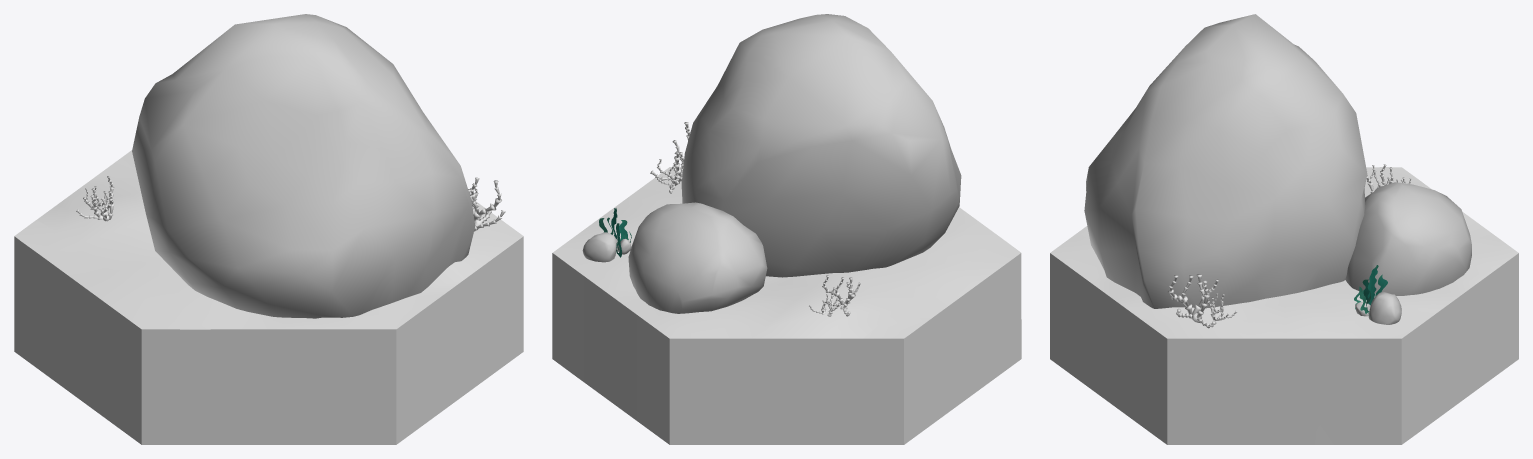
Rendered from RockTile.fbx.
3 renders of one model, left to right at view 1: azimuth 30°, elevation 25°; view 2: azimuth 150°, elevation 25°; view 3: azimuth 270°, elevation 25°, orthographic. The views are drawn at different scales.
Parts seen in each view (by area): view 1: Ground, RockTextured, Coral, Coral.001; view 2: Ground, RockTextured, RockTextured.001, RockTextured.002, Coral.001; view 3: Ground, RockTextured, RockTextured.001, Coral, RockTextured.002, Plane.
Part boxes in pixels (x1,y1,x2,y2): Ground: (14,150,523,444); RockTextured: (132,14,475,318); Coral: (468,177,505,231); Coral.001: (76,176,114,221); Ground: (552,167,1021,444); RockTextured: (681,14,961,277); RockTextured.001: (628,202,767,313); RockTextured.002: (582,232,616,262); Coral.001: (822,275,860,316); Ground: (1050,167,1518,444); RockTextured: (1084,14,1367,308); RockTextured.001: (1345,182,1471,295); Coral: (1167,274,1218,328); RockTextured.002: (1368,291,1401,324); Plane: (1359,265,1387,313).
Bounding box in the file's own units: 1.73 × 1.53 × 2.
4 materials, 1 textured.
